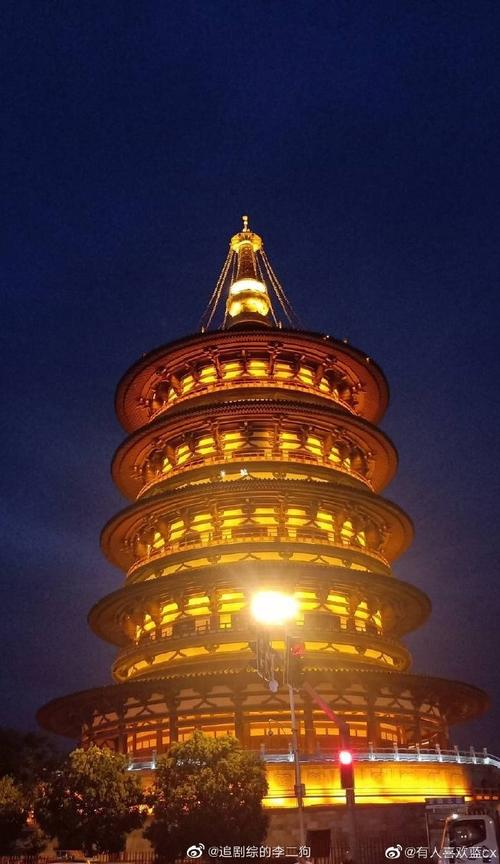buildings: (96, 279, 416, 754)
